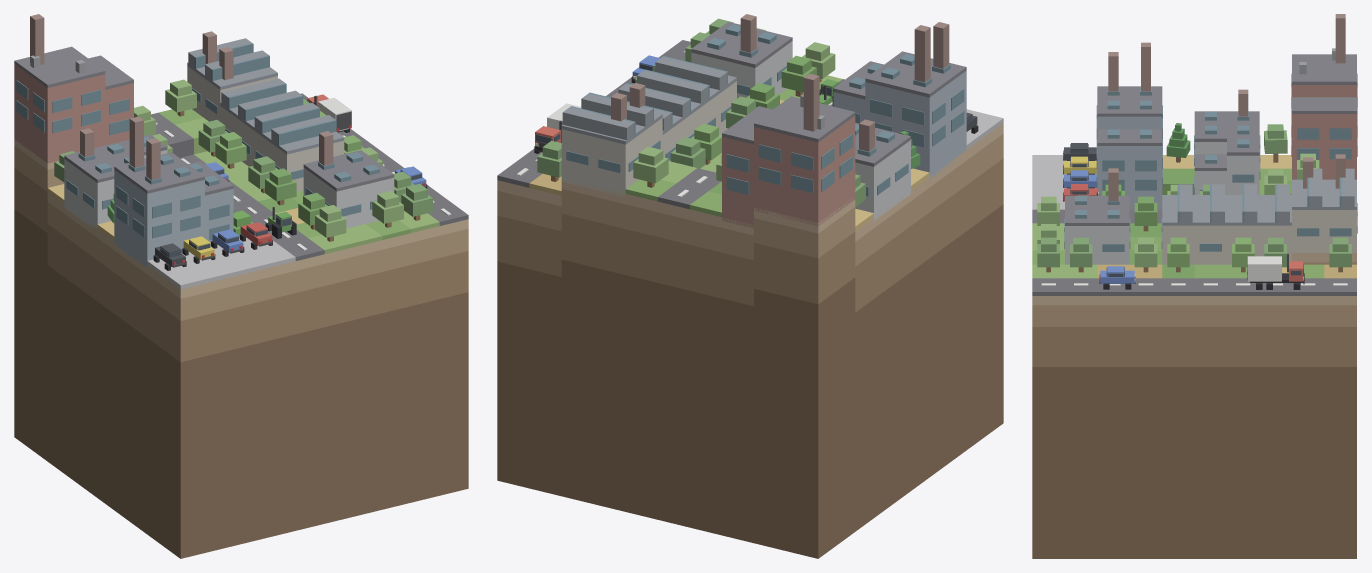
File: block_9_terracing_0.glb
The picture shows the model from 3 angles, left to right: view 1: azimuth 30°, elevation 25°; view 2: azimuth 150°, elevation 25°; view 3: azimuth 270°, elevation 25°; orthographic projection. The views are drawn at different scales.
Parts seen in each view (by area): view 1: Patch_LowerLeft_b09_TR, Factories_LowerLeft_b09_TR, Ground_LowerLeft_b09_TR, Roads_LowerLeft_b09_TR, Parking_LowerLeft_b09_TR, Asset_Truck.001_TR, Asset_Tree_Round.013_TR, Asset_Tree_Round.022_TR, Asset_Tree_Round.001_TR, Asset_Tree_Round.007_TR, Asset_Tree_Round.021_TR, Asset_Tree_Round.023_TR (+8 smaller); view 2: Patch_LowerLeft_b09_TR, Factories_LowerLeft_b09_TR, Ground_LowerLeft_b09_TR, Roads_LowerLeft_b09_TR, Asset_Tree_Round.001_TR, Asset_Tree_Round.017_TR, Asset_Tree_Round.005_TR, Asset_Truck.001_TR, Asset_Tree_Round.002_TR, Asset_Tree_Round.021_TR, Asset_Tree_Round.007_TR, Parking_LowerLeft_b09_TR; view 3: Patch_LowerLeft_b09_TR, Factories_LowerLeft_b09_TR, Ground_LowerLeft_b09_TR, Roads_LowerLeft_b09_TR, Asset_Truck.001_TR, Parking_LowerLeft_b09_TR, Asset_Tree_Round.020_TR, Asset_Tree_Round.014_TR, Asset_Tree_Round.013_TR, Asset_Tree_Round.002_TR, Asset_Tree_Round.012_TR, Asset_Tree_Round.018_TR (+11 smaller).
Part boxes in pixels (x1,y1,x2,y2): Patch_LowerLeft_b09_TR: [14, 139, 468, 558]; Factories_LowerLeft_b09_TR: [14, 14, 394, 267]; Ground_LowerLeft_b09_TR: [47, 109, 439, 253]; Roads_LowerLeft_b09_TR: [151, 93, 468, 260]; Parking_LowerLeft_b09_TR: [147, 237, 295, 289]; Asset_Truck.001_TR: [307, 94, 351, 132]; Asset_Tree_Round.013_TR: [265, 168, 296, 205]; Asset_Tree_Round.022_TR: [372, 191, 403, 227]; Asset_Tree_Round.001_TR: [165, 79, 196, 116]; Asset_Tree_Round.007_TR: [215, 132, 246, 168]; Asset_Tree_Round.021_TR: [315, 205, 346, 241]; Asset_Tree_Round.023_TR: [401, 184, 432, 220]; Patch_LowerLeft_b09_TR: [497, 123, 1003, 558]; Factories_LowerLeft_b09_TR: [561, 14, 966, 228]; Ground_LowerLeft_b09_TR: [529, 75, 929, 230]; Roads_LowerLeft_b09_TR: [497, 40, 844, 209]; Asset_Tree_Round.001_TR: [633, 146, 668, 187]; Asset_Tree_Round.017_TR: [781, 55, 816, 96]; Asset_Tree_Round.005_TR: [670, 137, 705, 168]; Asset_Truck.001_TR: [534, 103, 581, 153]; Asset_Tree_Round.002_TR: [537, 140, 561, 181]; Asset_Tree_Round.021_TR: [802, 42, 835, 82]; Asset_Tree_Round.007_TR: [691, 123, 721, 164]; Parking_LowerLeft_b09_TR: [966, 109, 1003, 149]; Patch_LowerLeft_b09_TR: [1032, 253, 1356, 558]; Factories_LowerLeft_b09_TR: [1064, 14, 1357, 264]; Ground_LowerLeft_b09_TR: [1032, 155, 1356, 278]; Roads_LowerLeft_b09_TR: [1032, 194, 1356, 295]; Asset_Truck.001_TR: [1247, 253, 1304, 289]; Parking_LowerLeft_b09_TR: [1032, 155, 1096, 209]; Asset_Tree_Round.020_TR: [1264, 124, 1287, 162]; Asset_Tree_Round.014_TR: [1134, 237, 1157, 272]; Asset_Tree_Round.013_TR: [1134, 196, 1157, 231]; Asset_Tree_Round.002_TR: [1329, 237, 1351, 272]; Asset_Tree_Round.012_TR: [1167, 237, 1189, 272]; Asset_Tree_Round.018_TR: [1070, 237, 1092, 272].
Bounding box in the file's own units: 9.52 × 13.33 × 9.52.
